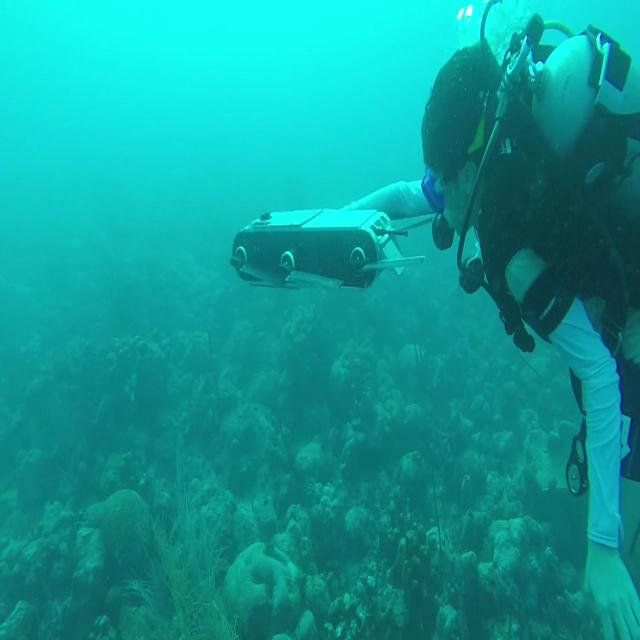human: (229, 2, 639, 637)
